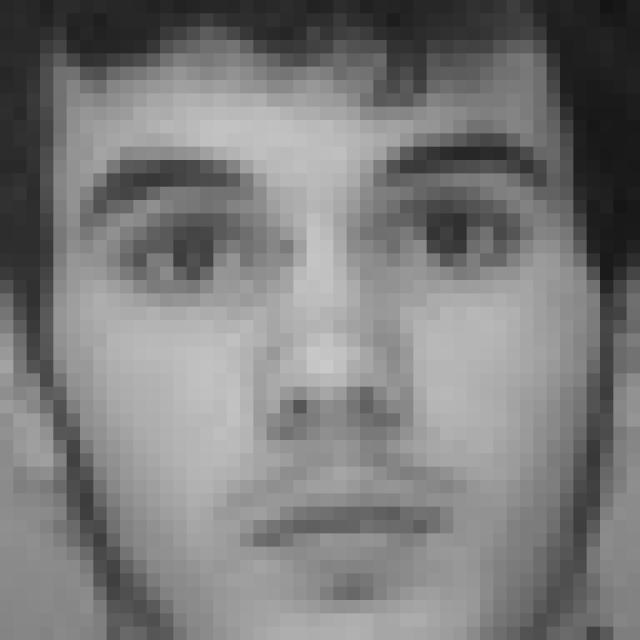neutral: (82, 134, 568, 589)
